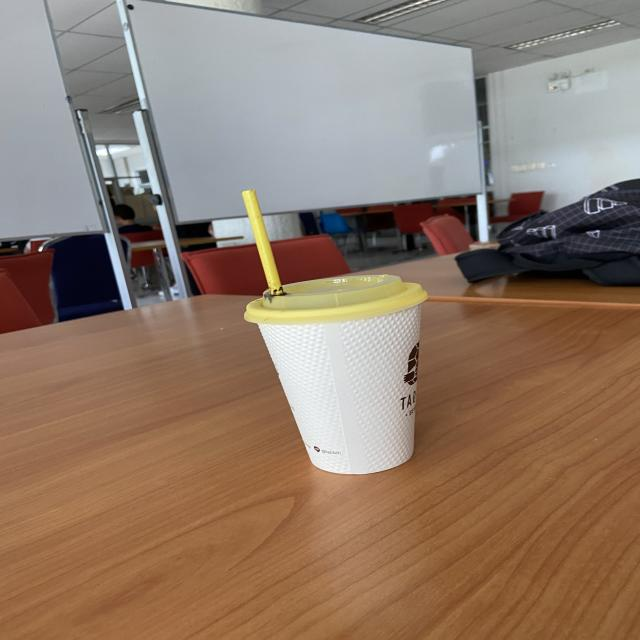cup: (240, 273, 434, 479)
